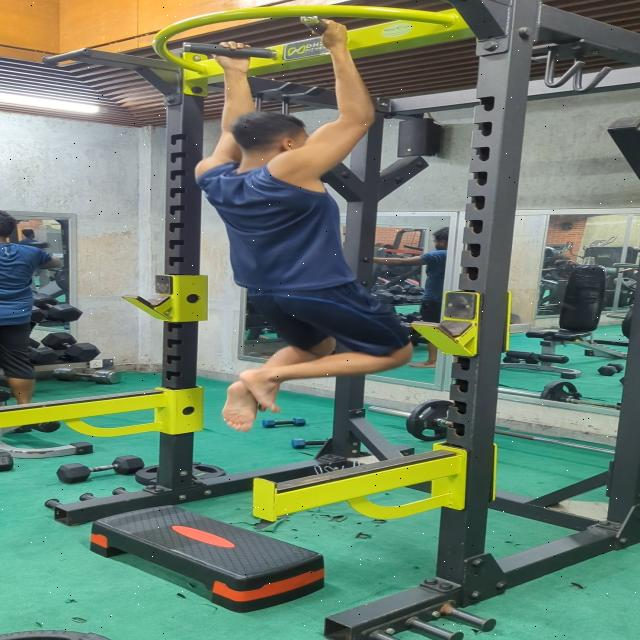Normal_PullUps: (180, 9, 420, 433)
